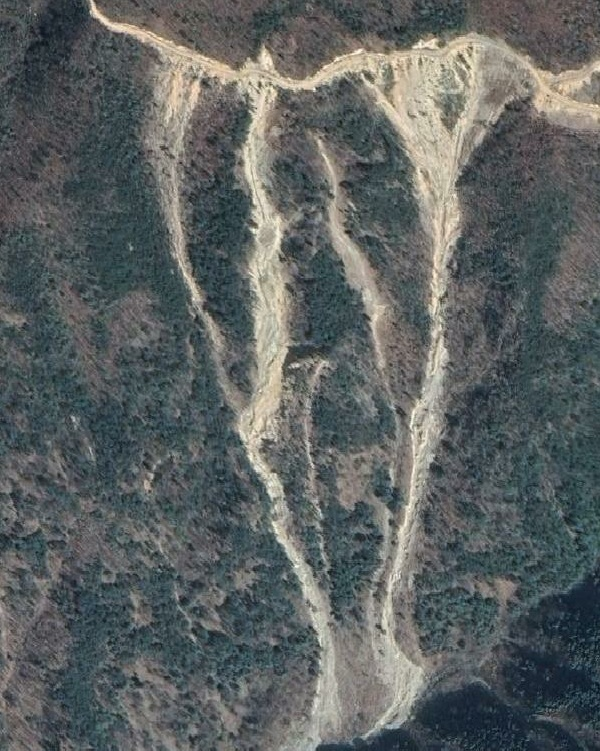slope: (342, 32, 537, 258), (229, 70, 296, 471), (305, 575, 426, 748), (141, 48, 212, 255), (537, 56, 599, 131)
